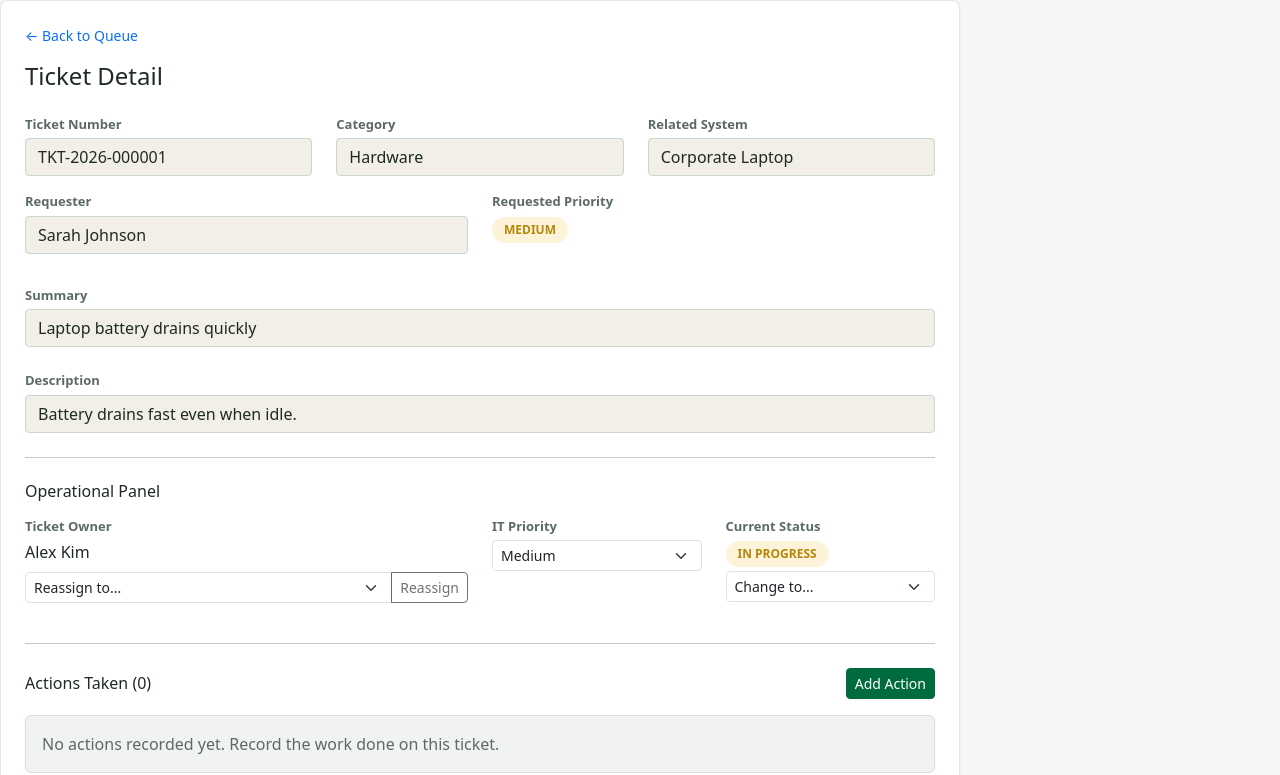
TicketWorkflow (UI-04) › UI-04: after a network error the chosen status stays selected and Retry sends it again (PR #72 review)
Select "WAITING FOR REQUESTER" in the dropdown labelled "Current Status": [830, 587] box [726, 572, 935, 602]
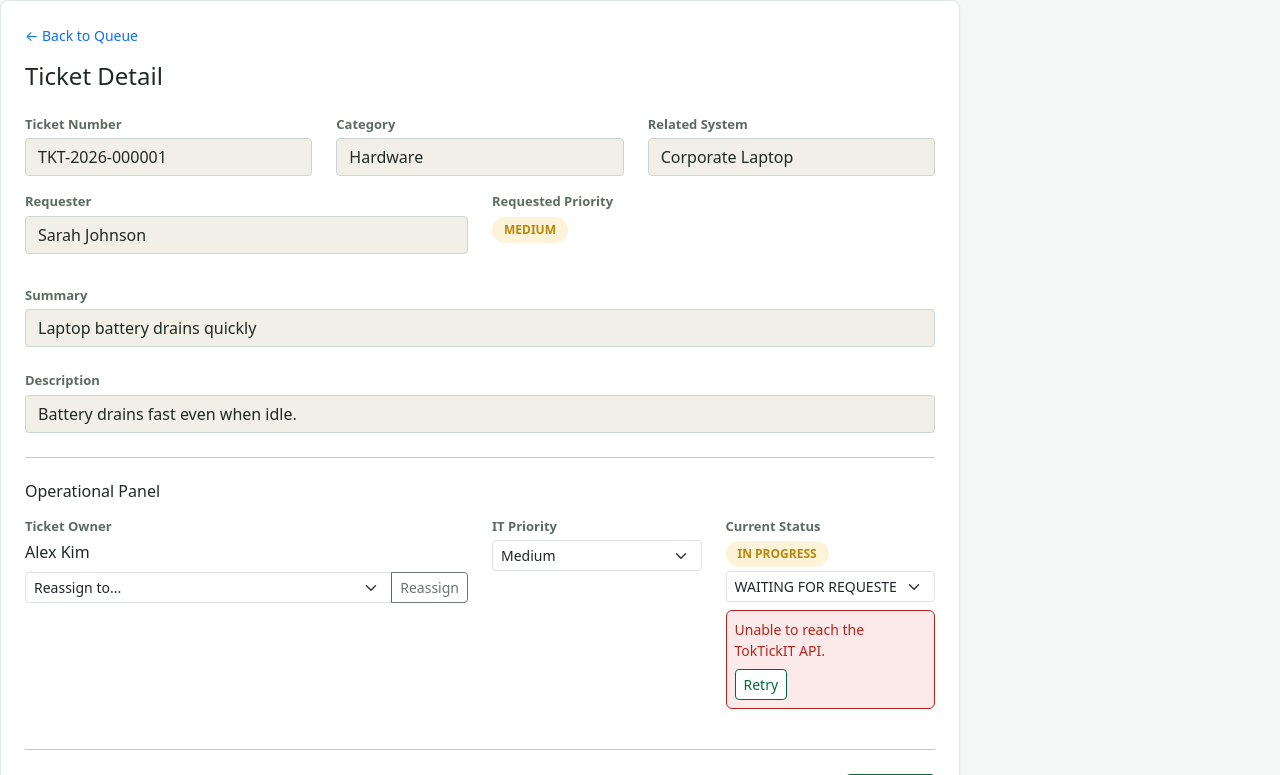
Result: the text "Unable to reach the TokTickIT API. Retry" is shown at [726, 610, 935, 710]
Click the button "Retry": [761, 685] box [734, 670, 787, 700]
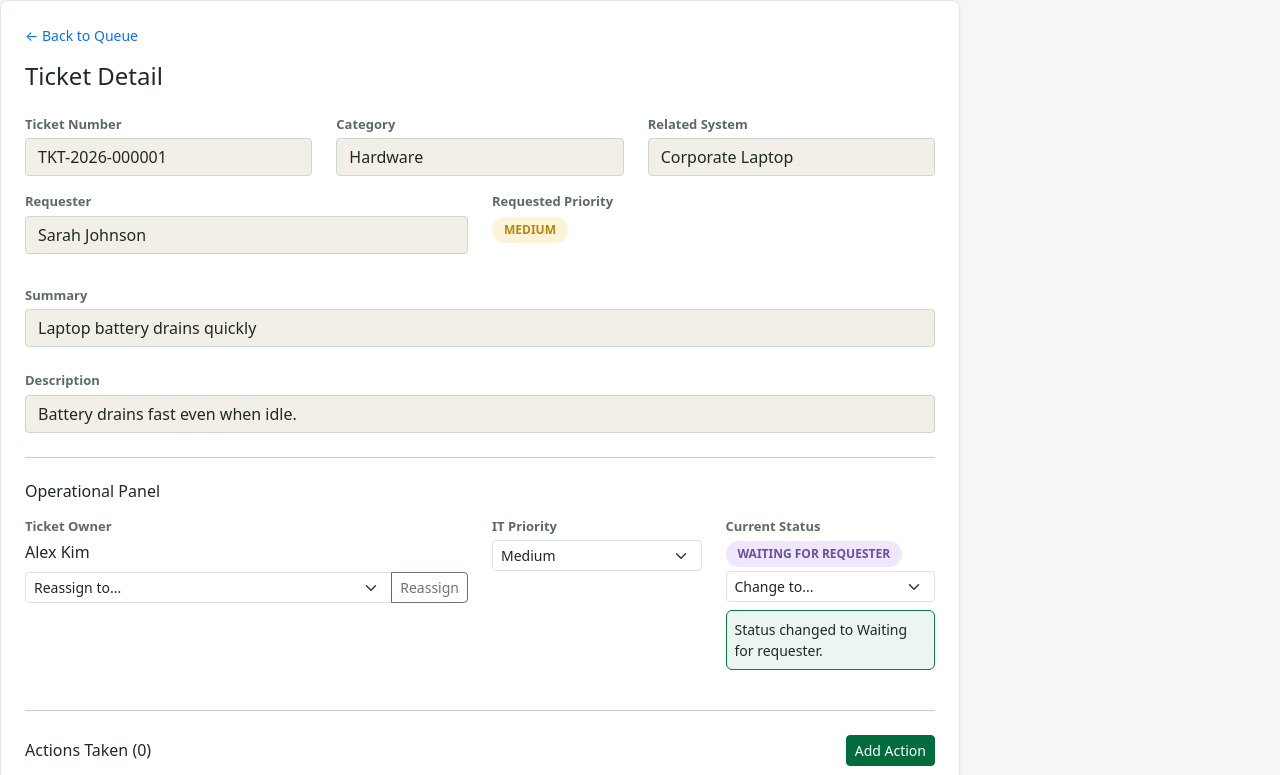
Result: the message reads "Status changed to Waiting for requester." at [734, 620, 907, 660]
